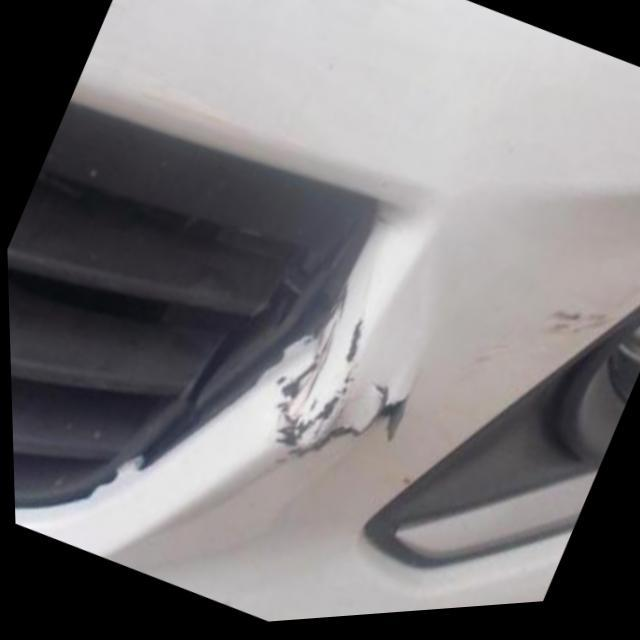crack: (244, 270, 425, 477)
scratch: (544, 306, 610, 353)
